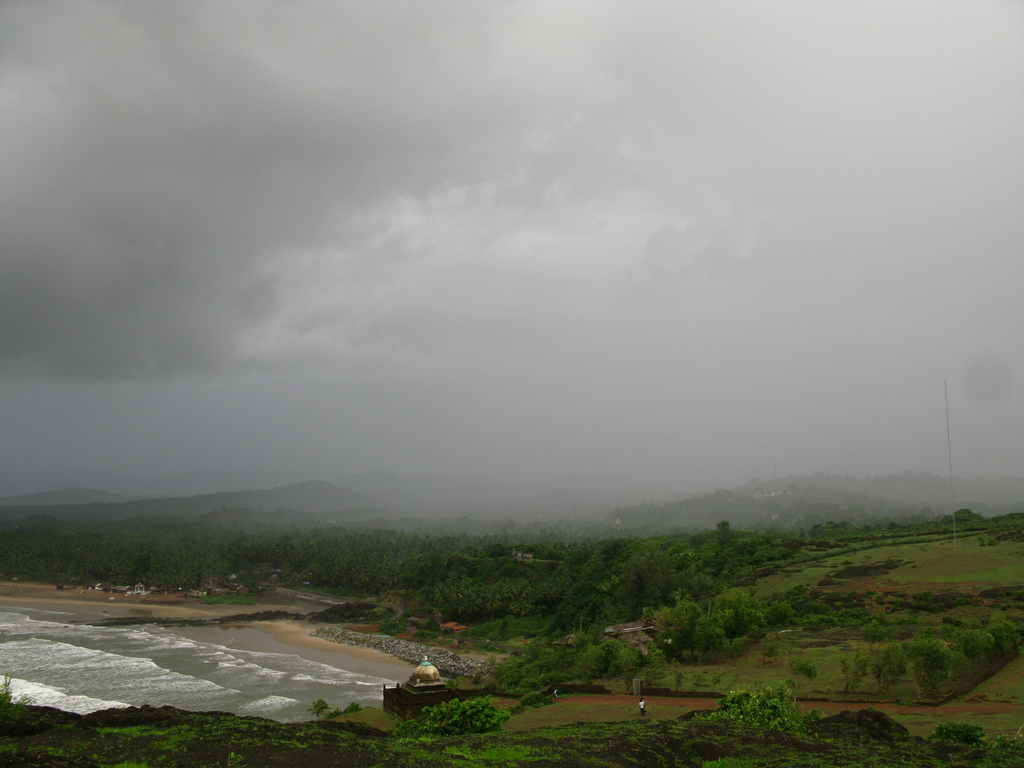Tree: (0, 508, 1024, 745)
